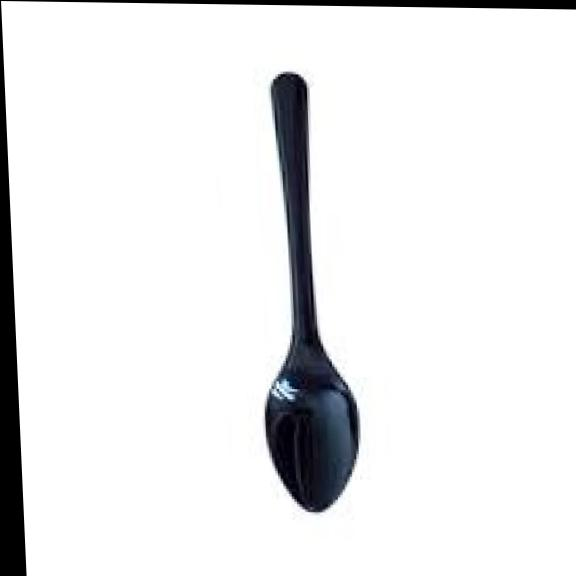Plastik: (264, 74, 359, 510)
